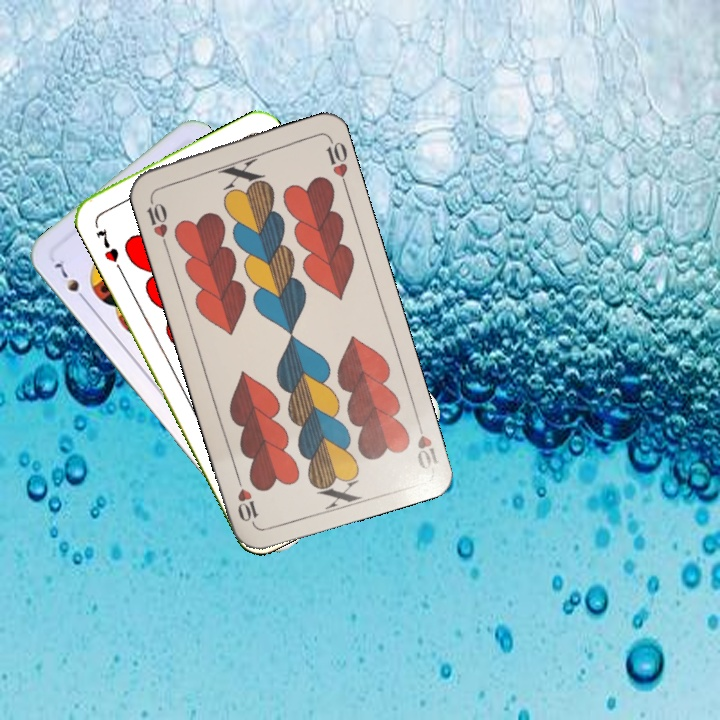H10: (412, 413, 441, 473), (142, 191, 171, 249)
H7: (91, 224, 122, 265)
S7: (50, 255, 91, 306)
